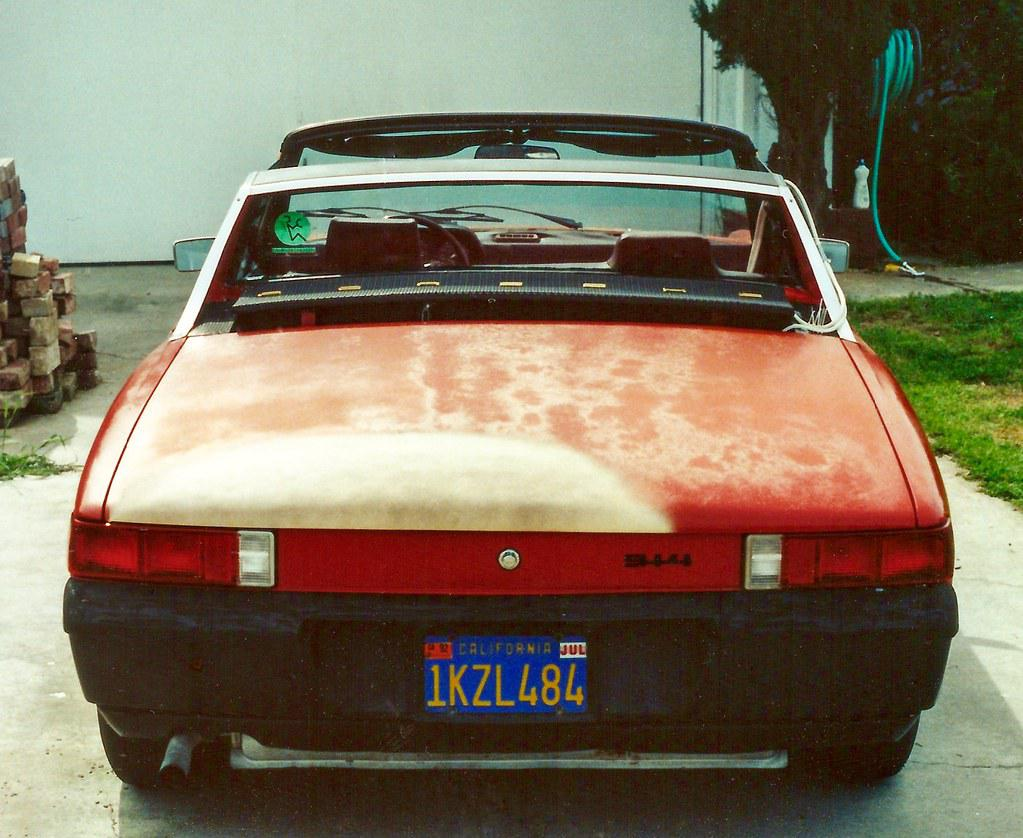bonnet-dent: (159, 334, 928, 540)
